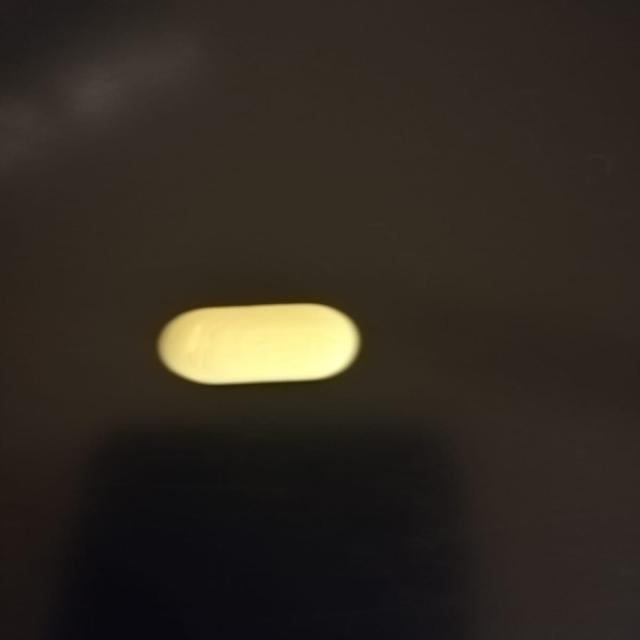pills: (143, 295, 372, 395)
